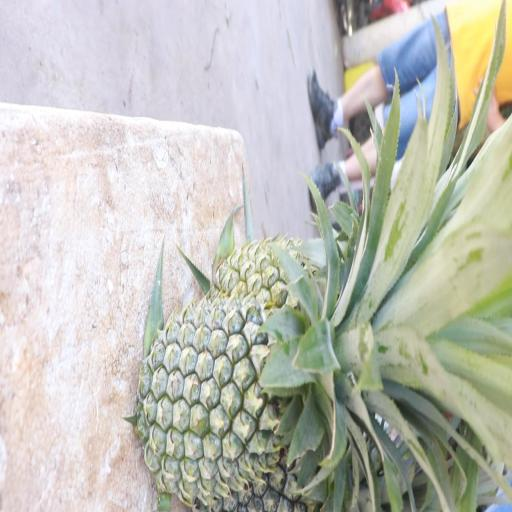Pineapple - v8 v1: (216, 208, 338, 311)
